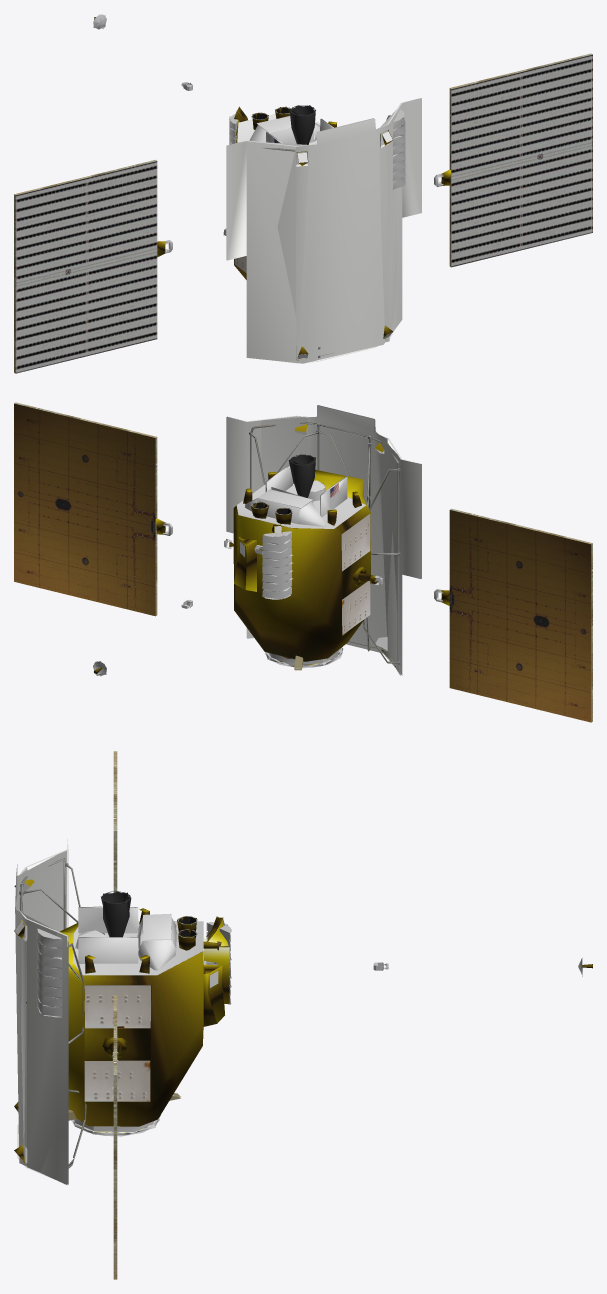
Rendered from messenger_lod2.glb.
3 renders of one model, top to bottom at view 1: azimuth 30°, elevation 25°; view 2: azimuth 150°, elevation 25°; view 3: azimuth 270°, elevation 25°, orthographic. The views are drawn at different scales.
Parts seen in each view (by area): view 1: messenger_lod2; view 2: messenger_lod2; view 3: messenger_lod2.
Part boxes in pixels (x1,y1,x2,y2): messenger_lod2: (14,14,592,373); messenger_lod2: (14,402,592,722); messenger_lod2: (14,751,592,1279).
Bounding box in the file's own units: 6.59 × 2.5 × 4.99.
10 materials, 5 textured.
